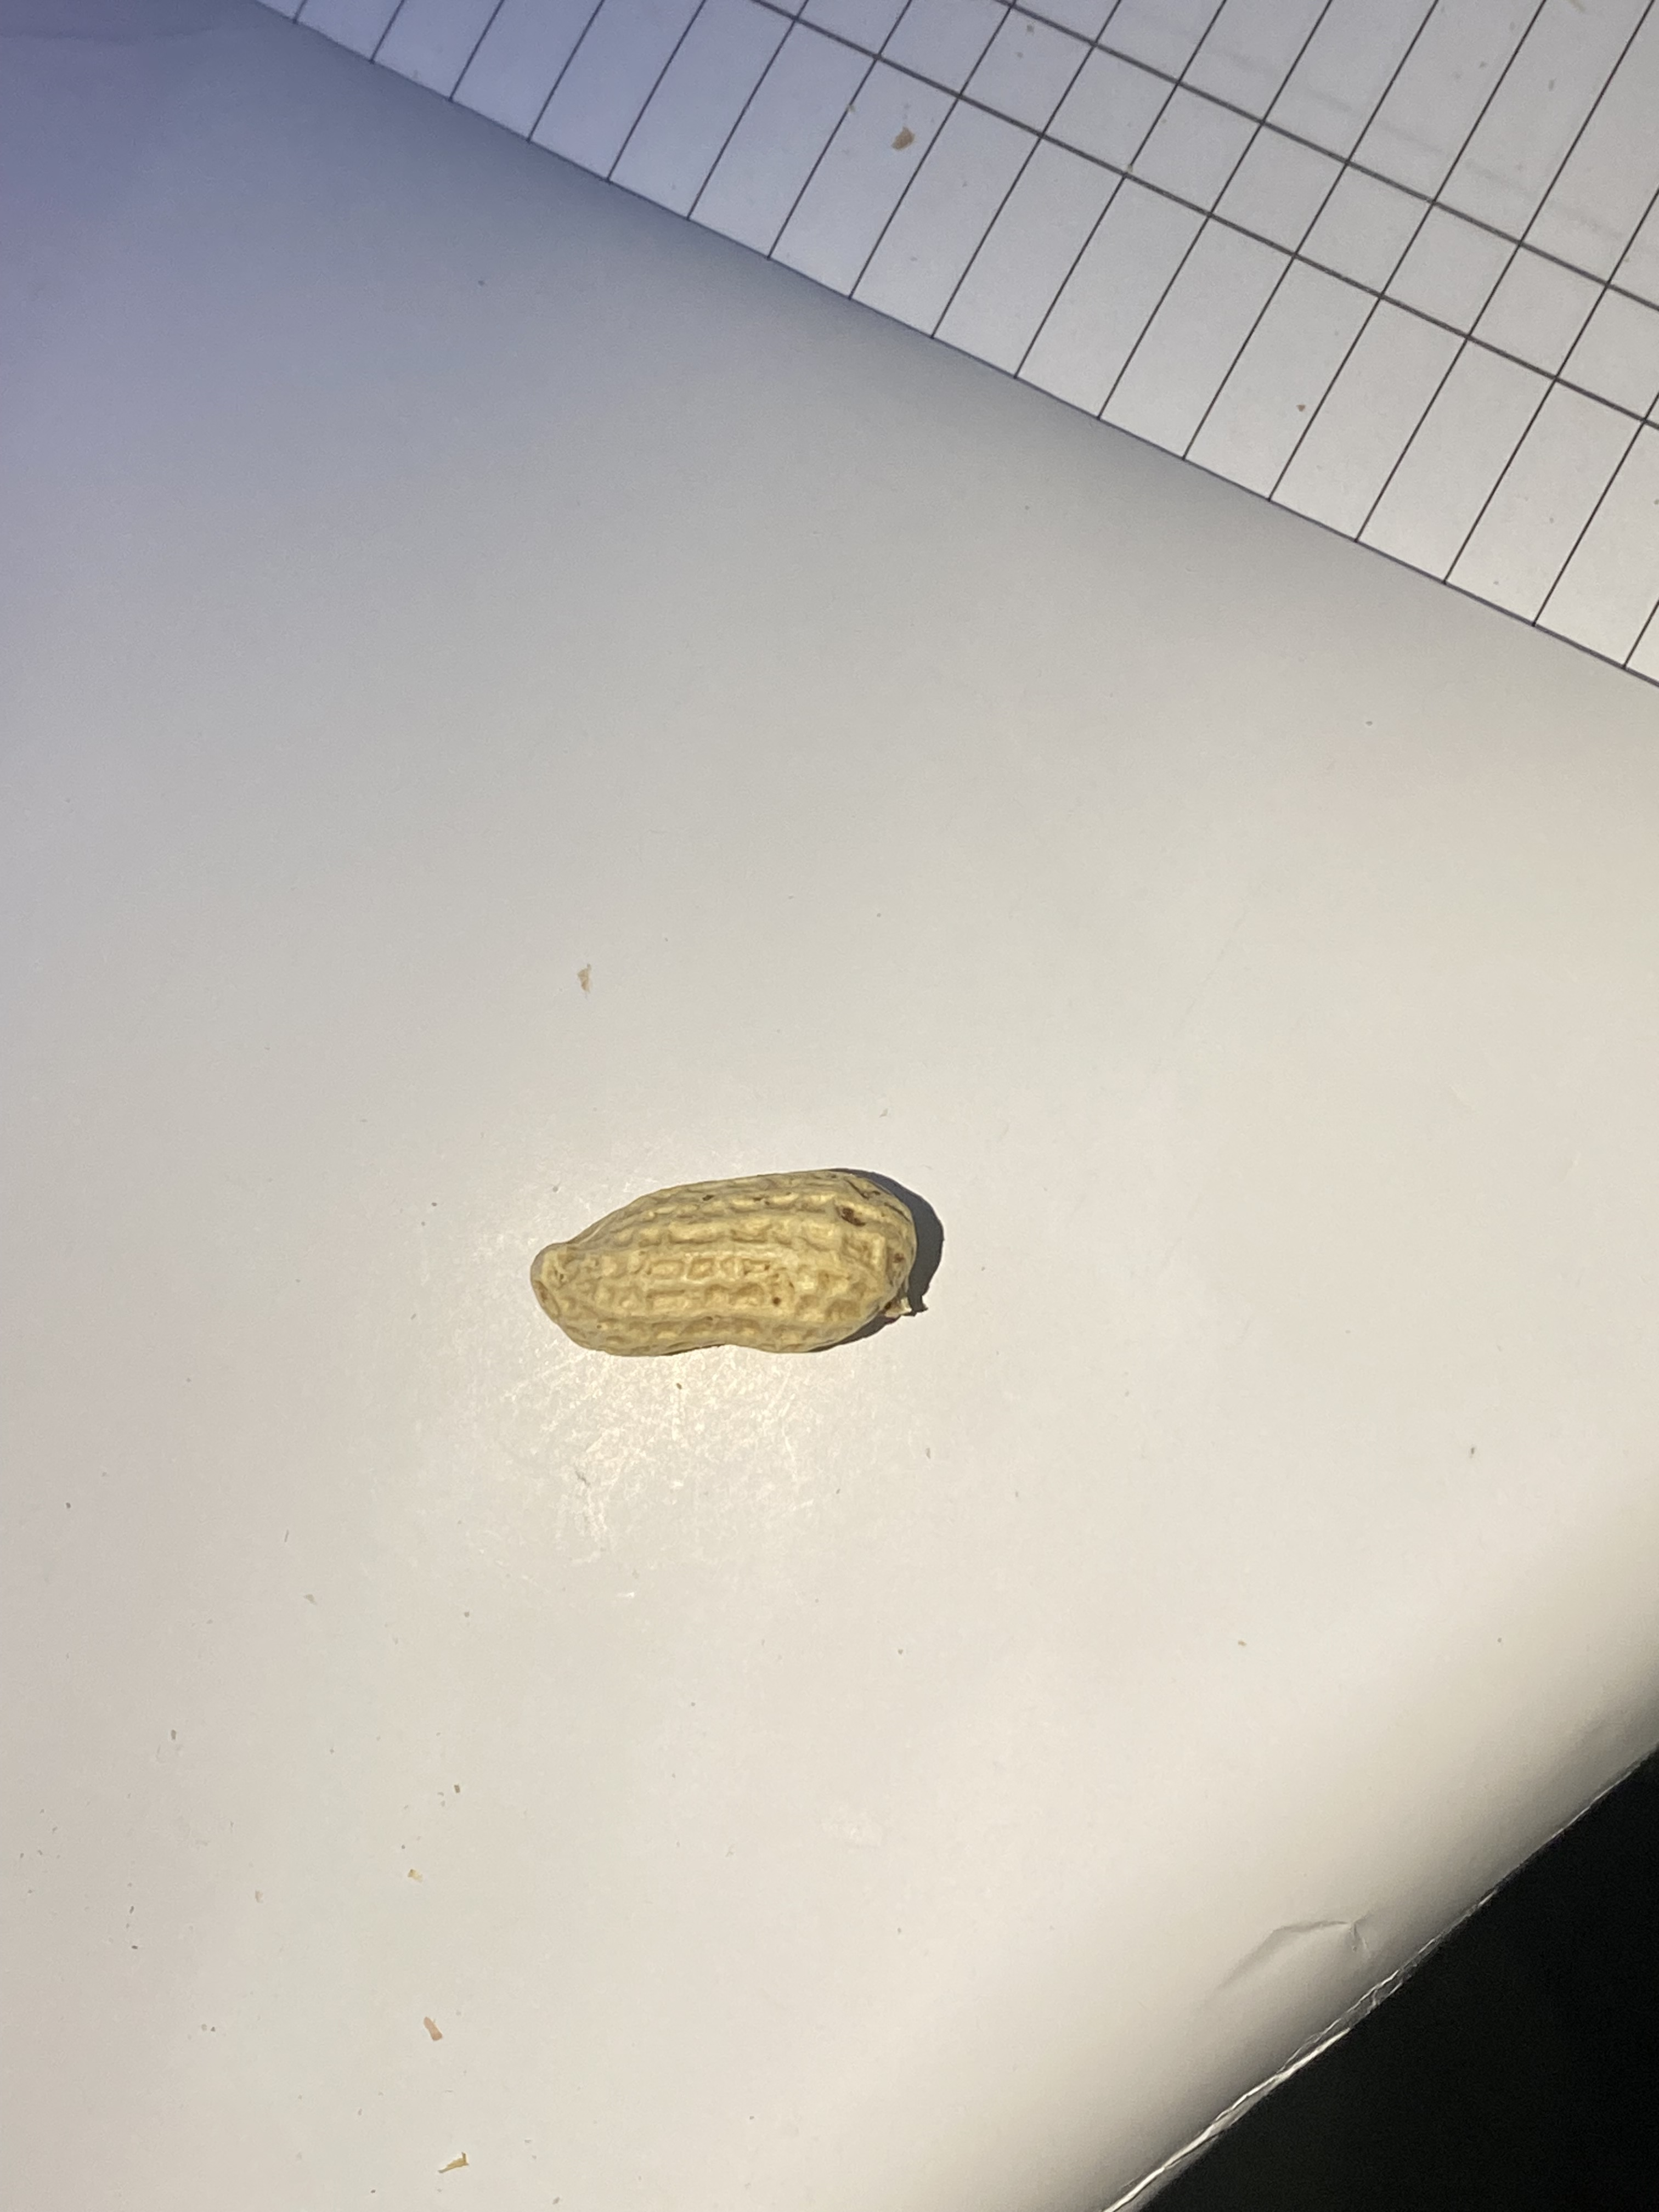kacang2: (502, 1144, 988, 1397)
